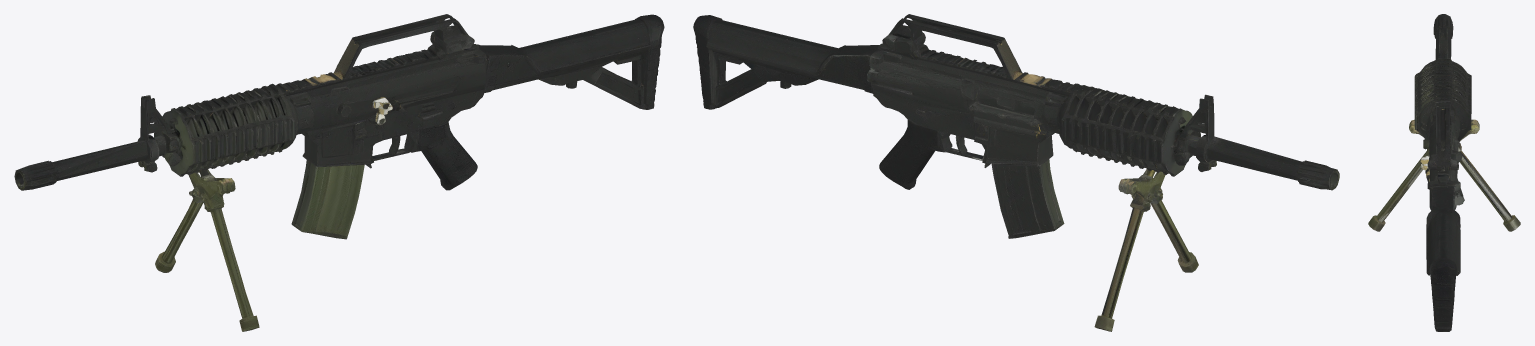
Rendered from lmg.glb.
3 renders of one model, left to right at view 1: azimuth 30°, elevation 25°; view 2: azimuth 150°, elevation 25°; view 3: azimuth 270°, elevation 25°, orthographic. The views are drawn at different scales.
Bounding box in the file's own units: 1.9 × 0.6413 × 0.4878.
1 material, 1 textured.
